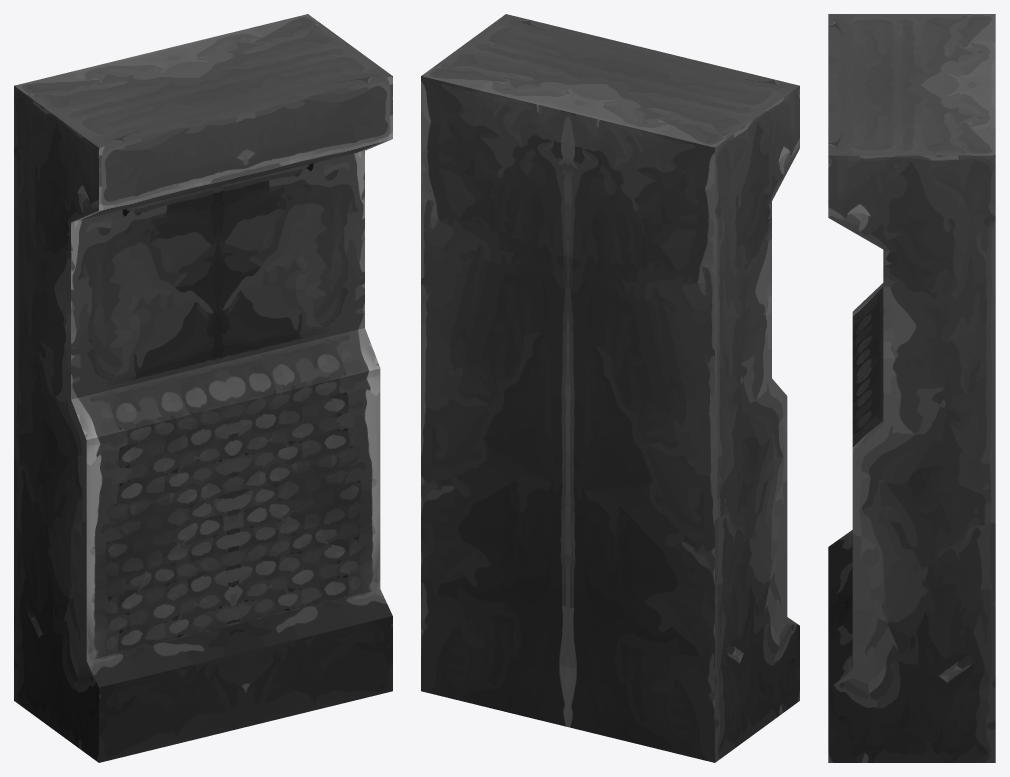
The model's file is VV-WalakuluBemmaElement-1.fbx.
3 renders of one model, left to right at view 1: azimuth 30°, elevation 25°; view 2: azimuth 150°, elevation 25°; view 3: azimuth 270°, elevation 25°, orthographic.
Visible parts, largest first — view 1: WalakuluBemma-build; view 2: WalakuluBemma-build; view 3: WalakuluBemma-build.
Boxes of the visible parts, <box> form: WalakuluBemma-build: <box>14,14,392,762</box>; WalakuluBemma-build: <box>421,14,799,762</box>; WalakuluBemma-build: <box>828,14,995,762</box>.
Bounding box in the file's own units: 1 × 2 × 0.5.
